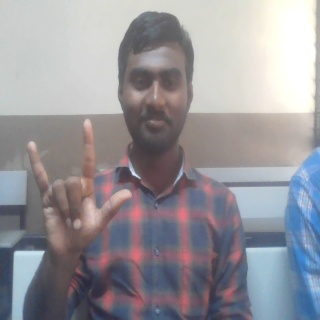Face: (116, 10, 195, 162)
I Love You: (20, 116, 133, 261)
